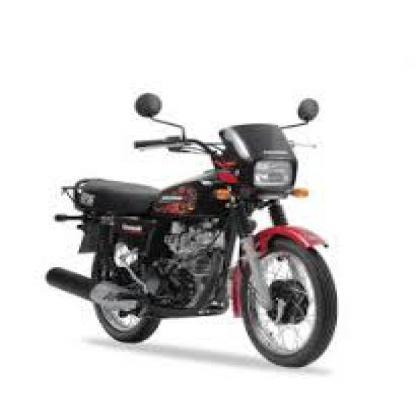Motorcycle: (32, 84, 357, 371)
